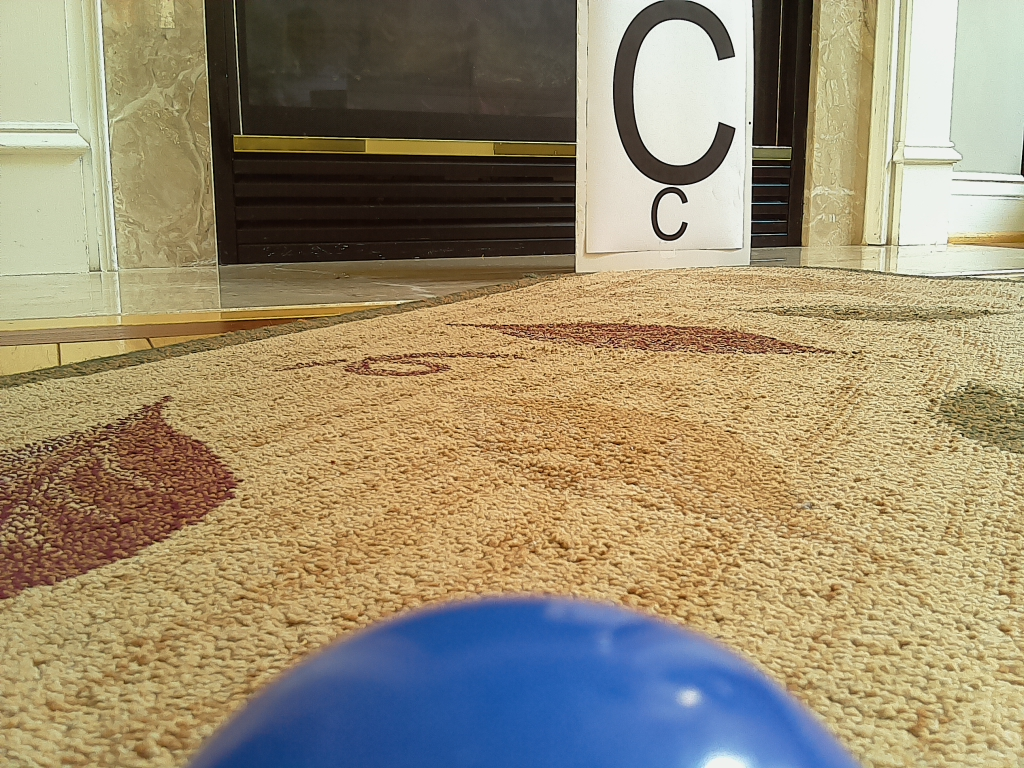letter: (613, 1, 734, 185)
